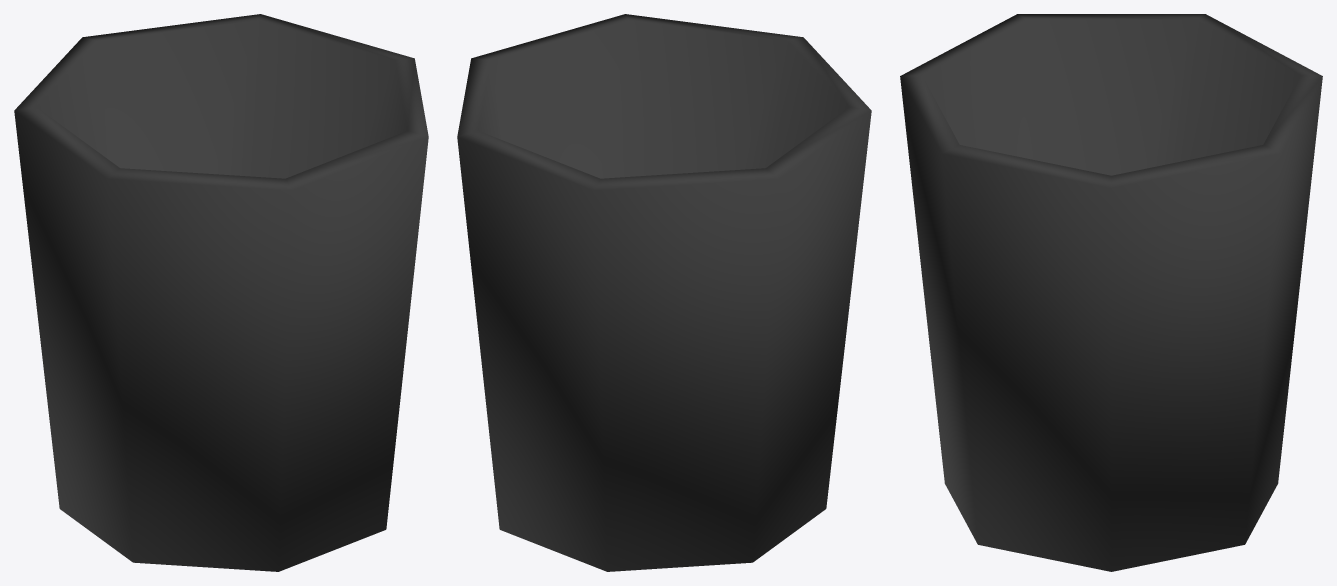
File: Waste_Basket_C.FBX
3 renders of one model, left to right at view 1: azimuth 30°, elevation 25°; view 2: azimuth 150°, elevation 25°; view 3: azimuth 270°, elevation 25°, orthographic.
Visible parts, largest first — view 1: Waste_basket; view 2: Waste_basket; view 3: Waste_basket.
Part boxes in pixels (x1,y1,x2,y2): Waste_basket: (14,14,428,571); Waste_basket: (457,14,871,571); Waste_basket: (900,14,1322,571).
Size of the model in its own units: 65.27 by 70.93 by 66.94.
